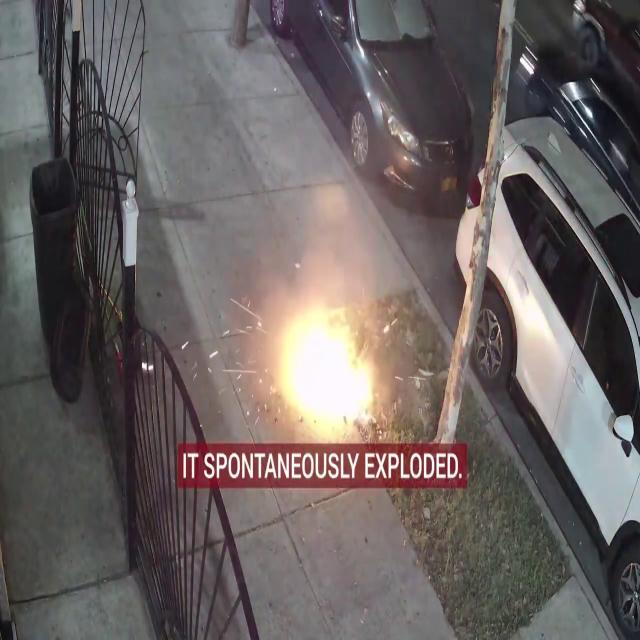Fire: (271, 289, 385, 442)
